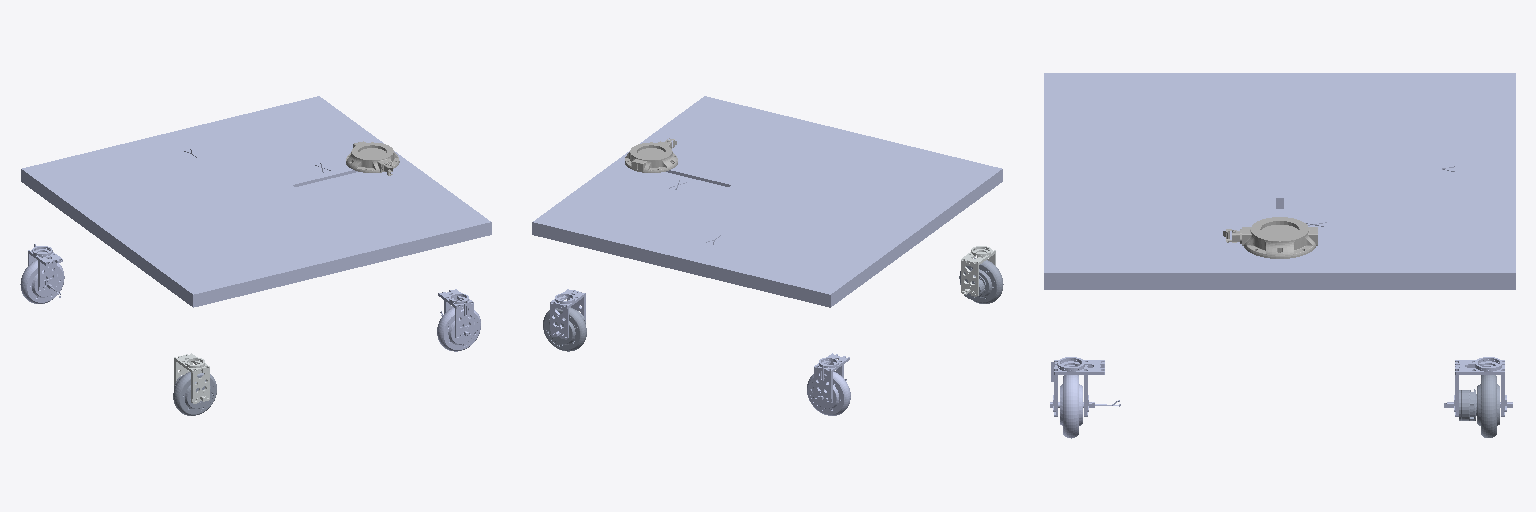
--- Facts derived from the render (not from the file) ---
Views: 3 orthographic renders of the robot side by side, from view 1: azimuth 30°, elevation 25°; view 2: azimuth 150°, elevation 25°; view 3: azimuth 270°, elevation 25°.
Model model_modified with 11 links and 10 joints (4 revolute, 4 continuous, 2 fixed), rooted at base_footprint, posed all joints at 0.
Links seen in each view (by area): view 1: base_link, arm_link0, turn_link4, wheel_link4, turn_link1, wheel_link1, wheel_link3, turn_link3; view 2: base_link, arm_link0, turn_link2, wheel_link2, turn_link3, wheel_link3, wheel_link4, turn_link4; view 3: base_link, arm_link0, wheel_link2, turn_link1, turn_link2, wheel_link1.
Link boxes in pixels (x1,y1,x2,y2): base_link: (21,96,491,307); arm_link0: (346,141,399,175); turn_link4: (174,353,209,403); wheel_link4: (173,372,216,415); turn_link1: (438,289,473,339); wheel_link1: (437,307,480,351); wheel_link3: (20,260,64,303); turn_link3: (28,244,62,297); base_link: (532,96,1002,307); arm_link0: (625,138,677,172); turn_link2: (550,289,585,339); wheel_link2: (543,307,586,351); turn_link3: (814,353,849,403); wheel_link3: (807,372,850,415); wheel_link4: (959,258,1003,303); turn_link4: (961,246,995,296); base_link: (1044,73,1515,289); arm_link0: (1223,217,1317,258); wheel_link2: (1459,375,1499,437); turn_link1: (1050,357,1120,416); turn_link2: (1444,357,1512,416); wheel_link1: (1060,375,1082,438).
Bounding box of the posed robot: 1.24 × 1.2 × 0.5603 m (x, y, z).
10 mesh visuals loaded from 10 distinct referenced files (10 binary STL).

URDF robot description (model_modified):
<?xml version="1.0" encoding="utf-8"?>
<!-- This URDF was automatically created by SolidWorks to URDF Exporter! Originally created by Stephen Brawner ([email redacted]) 
     Commit Version: 1.5.1-0-g916b5db  Build Version: 1.5.7152.31018
     For more information, please see http://wiki.ros.org/sw_urdf_exporter -->
<robot
  name="model_modified">

  <link name="base_footprint">
  </link>

  <joint name="base_footprint2base_link" type="fixed">
    <origin xyz="0 0 0.5" rpy="0 0 0"/>
    <parent link="base_footprint"/>
    <child link="base_link"/>
    <axis xyz="0 0 0"/>
  </joint>

  <link
    name="base_link">
    <inertial>
      <origin
        xyz="-0.00893248714072777 -0.00410748668992322 -0.126949191048676"
        rpy="0 0 0" />
      <mass
        value="60.6490348569728" />
      <inertia
        ixx="1.93062635388689"
        ixy="-9.28355662262115E-06"
        ixz="-0.000147443513712794"
        iyy="2.82233845782533"
        iyz="3.80713670511141E-06"
        izz="4.57188386851391" />
    </inertial>
    <visual>
      <origin
        xyz="0 0 0"
        rpy="0 0 0" />
      <geometry>
        <mesh
          filename="package://model_modified/meshes/base_link.STL" />
      </geometry>
      <material
        name="">
        <color
          rgba="0.792156862745098 0.819607843137255 0.933333333333333 1" />
      </material>
    </visual>
    <collision>
      <origin
        xyz="0 0 0"
        rpy="0 0 0" />
      <geometry>
        <mesh
          filename="package://model_modified/meshes/base_link.STL" />
      </geometry>
    </collision>
  </link>
  <link
    name="arm_link0">
    <inertial>
      <origin
        xyz="-1.85892599924298E-07 -0.00115098665543706 0.018830080730643"
        rpy="0 0 0" />
      <mass
        value="0.655152540803042" />
      <inertia
        ixx="0.00156276083969846"
        ixy="-3.36599648618648E-08"
        ixz="-1.62894681490701E-10"
        iyy="0.00121051829401654"
        iyz="-5.21192954217805E-06"
        izz="0.00262778163467102" />
    </inertial>
    <visual>
      <origin
        xyz="0 0 0"
        rpy="0 0 0" />
      <geometry>
        <mesh
          filename="package://model_modified/meshes/arm_link0.STL" />
      </geometry>
      <material
        name="">
        <color
          rgba="0.752941176470588 0.752941176470588 0.752941176470588 1" />
      </material>
    </visual>
    <collision>
      <origin
        xyz="0 0 0"
        rpy="0 0 0" />
      <geometry>
        <mesh
          filename="package://model_modified/meshes/arm_link0.STL" />
      </geometry>
    </collision>
  </link>
  <joint
    name="arm_joint0"
    type="fixed">
    <origin
      xyz="0.46925 0 0.02"
      rpy="0 0 0" />
    <parent
      link="base_link" />
    <child
      link="arm_link0" />
    <axis
      xyz="0 0 0" />
  </joint>
  <!-- <link
    name="arm_link1">
    <inertial>
      <origin
        xyz="6.56593142922546E-06 -0.0021798618257366 -0.00131736708112085"
        rpy="0 0 0" />
      <mass
        value="3.60449209211676" />
      <inertia
        ixx="0.0126654074039028"
        ixy="-2.62089433740127E-07"
        ixz="-1.31830270672264E-07"
        iyy="0.0127154549514285"
        iyz="0.000389410015223878"
        izz="0.0111093940722602" />
    </inertial>
    <visual>
      <origin
        xyz="0 0 0"
        rpy="0 0 0" />
      <geometry>
        <mesh
          filename="package://model_modified/meshes/arm_link1.STL" />
      </geometry>
      <material
        name="">
        <color
          rgba="0.752941176470588 0.752941176470588 0.752941176470588 1" />
      </material>
    </visual>
    <collision>
      <origin
        xyz="0 0 0"
        rpy="0 0 0" />
      <geometry>
        <mesh
          filename="package://model_modified/meshes/arm_link1.STL" />
      </geometry>
    </collision>
  </link>
  <joint
    name="arm_joint1"
    type="revolute">
    <origin
      xyz="0 0 0.14261"
      rpy="0 0 0" />
    <parent
      link="arm_link0" />
    <child
      link="arm_link1" />
    <axis
      xyz="0 0 -1" />
    <limit
      lower="-4.71"
      upper="4.71"
      effort="160"
      velocity="2.09" />
  </joint>
  <link
    name="arm_link2">
    <inertial>
      <origin
        xyz="0.297295848633661 -7.21650765328485E-06 0.181245685891374"
        rpy="0 0 0" />
      <mass
        value="12.2380790500907" />
      <inertia
        ixx="0.0343806286053289"
        ixy="5.21573028637576E-07"
        ixz="-4.57728396292352E-06"
        iyy="0.119109147801218"
        iyz="-5.70041950554426E-10"
        izz="0.116279402991015" />
    </inertial>
    <visual>
      <origin
        xyz="0 0 0"
        rpy="0 0 0" />
      <geometry>
        <mesh
          filename="package://model_modified/meshes/arm_link2.STL" />
      </geometry>
      <material
        name="">
        <color
          rgba="0.752941176470588 0.752941176470588 0.752941176470588 1" />
      </material>
    </visual>
    <collision>
      <origin
        xyz="0 0 0"
        rpy="0 0 0" />
      <geometry>
        <mesh
          filename="package://model_modified/meshes/arm_link2.STL" />
      </geometry>
    </collision>
  </link>
  <joint
    name="arm_joint2"
    type="revolute">
    <origin
      xyz="0 0 0"
      rpy="1.5708 -1.5708 0" />
    <parent
      link="arm_link1" />
    <child
      link="arm_link2" />
    <axis
      xyz="0 0 -1" />
    <limit
      lower="-1.48"
      upper="4.63"
      effort="159.24"
      velocity="2.09" />
  </joint>
  <link
    name="arm_link3">
    <inertial>
      <origin
        xyz="0.279323373643599 -2.05269174786693E-05 -0.0168804752155456"
        rpy="0 0 0" />
      <mass
        value="4.95956568648549" />
      <inertia
        ixx="0.00703926044842849"
        ixy="-1.10355720200029E-06"
        ixz="-0.0058150273292785"
        iyy="0.121787936376109"
        iyz="-1.14663299583859E-07"
        izz="0.121496286554896" />
    </inertial>
    <visual>
      <origin
        xyz="0 0 0"
        rpy="0 0 0" />
      <geometry>
        <mesh
          filename="package://model_modified/meshes/arm_link3.STL" />
      </geometry>
      <material
        name="">
        <color
          rgba="0.752941176470588 0.752941176470588 0.752941176470588 1" />
      </material>
    </visual>
    <collision>
      <origin
        xyz="0 0 0"
        rpy="0 0 0" />
      <geometry>
        <mesh
          filename="package://model_modified/meshes/arm_link3.STL" />
      </geometry>
    </collision>
  </link>
  <joint
    name="arm_joint3"
    type="revolute">
    <origin
      xyz="0.59497 -2.3063E-05 0"
      rpy="-3.1416 0 0" />
    <parent
      link="arm_link2" />
    <child
      link="arm_link3" />
    <axis
      xyz="0 0 1" />
    <limit
      lower="-3.05"
      upper="3.05"
      effort="82.38"
      velocity="2.09" />
  </joint>
  <link
    name="arm_link4">
    <inertial>
      <origin
        xyz="-2.96649884655165E-05 -0.00262123797534006 0.124278582104431"
        rpy="0 0 0" />
      <mass
        value="0.838886390347174" />
      <inertia
        ixx="0.00145630007823869"
        ixy="-1.63799148198374E-09"
        ixz="6.54274434216106E-09"
        iyy="0.00098615661868495"
        iyz="3.14742670990734E-06"
        izz="0.0014481473926624" />
    </inertial>
    <visual>
      <origin
        xyz="0 0 0"
        rpy="0 0 0" />
      <geometry>
        <mesh
          filename="package://model_modified/meshes/arm_link4.STL" />
      </geometry>
      <material
        name="">
        <color
          rgba="0.752941176470588 0.752941176470588 0.752941176470588 1" />
      </material>
    </visual>
    <collision>
      <origin
        xyz="0 0 0"
        rpy="0 0 0" />
      <geometry>
        <mesh
          filename="package://model_modified/meshes/arm_link4.STL" />
      </geometry>
    </collision>
  </link>
  <joint
    name="arm_joint4"
    type="revolute">
    <origin
      xyz="0.57464 -4.5713E-05 0"
      rpy="-3.1416 0 -1.5708" />
    <parent
      link="arm_link3" />
    <child
      link="arm_link4" />
    <axis
      xyz="0 0 1" />
    <limit
      lower="-1.48"
      upper="4.63"
      effort="13.44"
      velocity="3.14" />
  </joint>
  <link
    name="arm_link5">
    <inertial>
      <origin
        xyz="1.93539596238246E-07 0.12717221554454 -0.00113544003881827"
        rpy="0 0 0" />
      <mass
        value="0.838308466241377" />
      <inertia
        ixx="0.00145558285451265"
        ixy="4.55756640118538E-09"
        ixz="6.62993366020226E-09"
        iyy="0.00100189715251814"
        iyz="-1.22054880754547E-06"
        izz="0.0014494885141089" />
    </inertial>
    <visual>
      <origin
        xyz="0 0 0"
        rpy="0 0 0" />
      <geometry>
        <mesh
          filename="package://model_modified/meshes/arm_link5.STL" />
      </geometry>
      <material
        name="">
        <color
          rgba="0.752941176470588 0.752941176470588 0.752941176470588 1" />
      </material>
    </visual>
    <collision>
      <origin
        xyz="0 0 0"
        rpy="0 0 0" />
      <geometry>
        <mesh
          filename="package://model_modified/meshes/arm_link5.STL" />
      </geometry>
    </collision>
  </link>
  <joint
    name="arm_joint5"
    type="revolute">
    <origin
      xyz="-2.9874E-05 -0.11445 0"
      rpy="1.5708 0 0" />
    <parent
      link="arm_link4" />
    <child
      link="arm_link5" />
    <axis
      xyz="0 0 1" />
    <limit
      lower="-4.71"
      upper="4.71"
      effort="12.06"
      velocity="3.14" />
  </joint>
  <link
    name="arm_link6">
    <inertial>
      <origin
        xyz="-4.9133202951579E-05 0.00034489173314256 -0.0420522876754529"
        rpy="0 0 0" />
      <mass
        value="0.185615002431531" />
      <inertia
        ixx="0.000124025995543342"
        ixy="-5.32236134534583E-08"
        ixz="2.5668503304522E-08"
        iyy="0.000124255184258649"
        iyz="-2.96050182378141E-07"
        izz="0.000211261380376879" />
    </inertial>
    <visual>
      <origin
        xyz="0 0 0"
        rpy="0 0 0" />
      <geometry>
        <mesh
          filename="package://model_modified/meshes/arm_link6.STL" />
      </geometry>
      <material
        name="">
        <color
          rgba="0.752941176470588 0.752941176470588 0.752941176470588 1" />
      </material>
    </visual>
    <collision>
      <origin
        xyz="0 0 0"
        rpy="0 0 0" />
      <geometry>
        <mesh
          filename="package://model_modified/meshes/arm_link6.STL" />
      </geometry>
    </collision>
  </link>
  <joint
    name="arm_joint6"
    type="revolute">
    <origin
      xyz="0 0 0"
      rpy="1.5708 0 0" />
    <parent
      link="arm_link5" />
    <child
      link="arm_link6" />
    <axis
      xyz="0 0 1" />
    <limit
      lower="-4.71"
      upper="4.71"
      effort="5.46"
      velocity="3.14" />
  </joint> -->
  <link name="turn_link1">
    <inertial>
    <origin xyz="4.7809E-06 -0.0053951 -0.058703" rpy="0 0 0"/>
    <mass value="0.23413"/>
    <inertia ixx="0.00027719" ixy="-6.7198E-12" ixz="2.5745E-08" iyy="0.00026387" iyz="1.7031E-06" izz="0.00021284"/>
    </inertial>
    <visual>
    <origin xyz="0 0 0" rpy="0 0 0"/>
    <geometry>
    <mesh filename="package://model_modified/meshes/turn_link1.STL"/>
    </geometry>
    <material name="">
    <color rgba="0.79216 0.81961 0.93333 1"/>
    </material>
    </visual>
    <collision>
    <origin xyz="0 0 0" rpy="0 0 0"/>
    <geometry>
    <mesh filename="package://model_modified/meshes/turn_link1.STL"/>
    </geometry>
    </collision>
    </link>
    <joint name="joint_turn1" type="revolute">
    <origin xyz="0.51025 -0.53195 -0.4154" rpy="3.1416 0 0"/>
    <parent link="base_link"/>
    <child link="turn_link1"/>
    <axis xyz="0 0 1"/>
    <limit lower="-6.28" upper="6.28" effort="24" velocity="392.7"/>
    </joint>
    <link name="wheel_link1">
    <inertial>
    <origin xyz="-9.46616373287412E-07 8.36851295982211E-07 0.000203528913065631" rpy="0 0 0"/>
    <mass value="0.983628441689034"/>
    <inertia ixx="0.00172003283591093" ixy="-1.0212086898238E-08" ixz="2.71189247391096E-08" iyy="0.0017200303768434" iyz="-2.39470842150592E-08" izz="0.00304607448874652"/>
    </inertial>
    <visual>
    <origin xyz="0 0 0" rpy="0 0 0"/>
    <geometry>
    <mesh filename="package://model_modified/meshes/wheel_link1.STL"/>
    </geometry>
    <material name="">
    <color rgba="0.792156862745098 0.819607843137255 0.933333333333333 1"/>
    </material>
    </visual>
    <collision>
    <origin xyz="0 0 0" rpy="0 0 0"/>
    <geometry>
    <mesh filename="package://model_modified/meshes/wheel_link1.STL"/>
    </geometry>
    </collision>
    </link>
    <joint name="joint_wheel1" type="continuous">
    <origin xyz="0 0 0" rpy="-1.5708 1.5708 0"/>
    <parent link="turn_link1"/>
    <child link="wheel_link1"/>
    <axis xyz="0 0 1"/>
    </joint>
    <link name="turn_link2">
    <inertial>
    <origin xyz="1.253E-09 0.020205 -0.048699" rpy="0 0 0"/>
    <mass value="0.27586"/>
    <inertia ixx="0.00030508" ixy="1.1956E-11" ixz="1.2119E-12" iyy="0.00026414" iyz="-1.7052E-06" izz="0.00024149"/>
    </inertial>
    <visual>
    <origin xyz="0 0 0" rpy="0 0 0"/>
    <geometry>
    <mesh filename="package://model_modified/meshes/turn_link2.STL"/>
    </geometry>
    <material name="">
    <color rgba="0.79216 0.81961 0.93333 1"/>
    </material>
    </visual>
    <collision>
    <origin xyz="0 0 0" rpy="0 0 0"/>
    <geometry>
    <mesh filename="package://model_modified/meshes/turn_link2.STL"/>
    </geometry>
    </collision>
    </link>
    <joint name="joint_turn2" type="revolute">
    <origin xyz="0.510251651718085 0.53195481528325 -0.415396961061792" rpy="3.14159265358979 0 0"/>
    <parent link="base_link"/>
    <child link="turn_link2"/>
    <axis xyz="0 0 1"/>
    <limit lower="-6.28" upper="6.28" effort="24" velocity="392.7"/>
    </joint>
    <link name="wheel_link2">
    <inertial>
    <origin xyz="-4.6090758842654E-05 6.74907727865603E-05 -0.0100561815967314" rpy="0 0 0"/>
    <mass value="2.81767979726362"/>
    <inertia ixx="0.00568063685695422" ixy="-9.6188179177431E-07" ixz="-5.52704245861497E-06" iyy="0.00567948762334327" iyz="9.8770178633903E-06" izz="0.007723054301697"/>
    </inertial>
    <visual>
    <origin xyz="0 0 0" rpy="0 0 0"/>
    <geometry>
    <mesh filename="package://model_modified/meshes/wheel_link2.STL"/>
    </geometry>
    <material name="">
    <color rgba="0.666666666666667 0.698039215686274 0.768627450980392 1"/>
    </material>
    </visual>
    <collision>
    <origin xyz="0 0 0" rpy="0 0 0"/>
    <geometry>
    <mesh filename="package://model_modified/meshes/wheel_link2.STL"/>
    </geometry>
    </collision>
    </link>
    <joint name="joint_wheel2" type="continuous">
    <origin xyz="0 0 0" rpy="1.5708 1.5708 0"/>
    <parent link="turn_link2"/>
    <child link="wheel_link2"/>
    <axis xyz="0 0 1"/>
    </joint>
    <link name="turn_link3">
    <inertial>
    <origin xyz="-4.0555E-06 0.0053951 -0.058699" rpy="0 0 0"/>
    <mass value="0.23413"/>
    <inertia ixx="0.00027719" ixy="2.5185E-11" ixz="-2.5745E-08" iyy="0.00026387" iyz="-1.6068E-06" izz="0.00021284"/>
    </inertial>
    <visual>
    <origin xyz="0 0 0" rpy="0 0 0"/>
    <geometry>
    <mesh filename="package://model_modified/meshes/turn_link3.STL"/>
    </geometry>
    <material name="">
    <color rgba="0.79216 0.81961 0.93333 1"/>
    </material>
    </visual>
    <collision>
    <origin xyz="0 0 0" rpy="0 0 0"/>
    <geometry>
    <mesh filename="package://model_modified/meshes/turn_link3.STL"/>
    </geometry>
    </collision>
    </link>
    <joint name="joint_turn3" type="revolute">
    <origin xyz="-0.551748348281654 0.531954815283268 -0.415396961061794" rpy="-3.14159265358979 0 0"/>
    <parent link="base_link"/>
    <child link="turn_link3"/>
    <axis xyz="0 0 1"/>
    <limit lower="-6.28" upper="6.28" effort="24" velocity="392.7"/>
    </joint>
    <link name="wheel_link3">
    <inertial>
    <origin xyz="-1.6046E-07 1.2533E-06 0.00020353" rpy="0 0 0"/>
    <mass value="0.98363"/>
    <inertia ixx="0.00172" ixy="-2.5604E-09" ixz="4.6149E-09" iyy="0.00172" iyz="-3.5883E-08" izz="0.0030461"/>
    </inertial>
    <visual>
    <origin xyz="0 0 0" rpy="0 0 0"/>
    <geometry>
    <mesh filename="package://model_modified/meshes/wheel_link3.STL"/>
    </geometry>
    <material name="">
    <color rgba="0.79216 0.81961 0.93333 1"/>
    </material>
    </visual>
    <collision>
    <origin xyz="0 0 0" rpy="0 0 0"/>
    <geometry>
    <mesh filename="package://model_modified/meshes/wheel_link3.STL"/>
    </geometry>
    </collision>
    </link>


    <joint name="joint_wheel3" type="continuous">
    <origin xyz="0 0 0" rpy="1.5708 1.5708 0"/>
    <parent link="turn_link3"/>
    <child link="wheel_link3"/>
    <axis xyz="0 0 1"/>
    
   
    </joint>


    <link name="turn_link4">
    <inertial>
    <origin xyz="-2.1506E-09 -0.020091 -0.056878" rpy="0 0 0"/>
    <mass value="0.6378"/>
    <inertia ixx="0.00074965" ixy="2.7651E-11" ixz="-6.1452E-12" iyy="0.0007103" iyz="4.5186E-06" izz="0.00057825"/>
    </inertial>
    <visual>
    <origin xyz="0 0 0" rpy="0 0 0"/>
    <geometry>
    <mesh filename="package://model_modified/meshes/turn_link4.STL"/>
    </geometry>
    <material name="">
    <color rgba="0.89804 0.91765 0.92941 1"/>
    </material>
    </visual>
    <collision>
    <origin xyz="0 0 0" rpy="0 0 0"/>
    <geometry>
    <mesh filename="package://model_modified/meshes/turn_link4.STL"/>
    </geometry>
    </collision>
    </link>
    <joint name="joint_turn4" type="revolute">
    <origin xyz="-0.55175 -0.53195 -0.4154" rpy="-3.1416 0 0"/>
    <parent link="base_link"/>
    <child link="turn_link4"/>
    <axis xyz="0 0 1"/>
    <limit lower="-6.28" upper="6.28" effort="24" velocity="392.7"/>
    </joint>
    <link name="wheel_link4">
    <inertial>
    <origin xyz="2.0752E-06 -3.0828E-07 -0.01041" rpy="0 0 0"/>
    <mass value="2.6332"/>
    <inertia ixx="0.0053309" ixy="2.2241E-08" ixz="-8.2689E-08" iyy="0.0053309" iyz="1.2669E-07" izz="0.0071271"/>
    </inertial>
    <visual>
    <origin xyz="0 0 0" rpy="0 0 0"/>
    <geometry>
    <mesh filename="package://model_modified/meshes/wheel_link4.STL"/>
    </geometry>
    <material name="">
    <color rgba="0.66667 0.69804 0.76863 1"/>
    </material>
    </visual>
    <collision>
    <origin xyz="0 0 0" rpy="0 0 0"/>
    <geometry>
    <mesh filename="package://model_modified/meshes/wheel_link4.STL"/>
    </geometry>
    </collision>
    </link>



    <joint name="joint_wheel4" type="continuous">
    <origin xyz="0 0 0" rpy="-1.5708 1.5708 0"/>
    <parent link="turn_link4"/>
    <child link="wheel_link4"/>
    <axis xyz="0 0 1"/>
    </joint>

  <transmission name="tran_turn1">
    <type>transmission_interface/SimpleTransmission</type>
      <joint name="joint_turn1">
      <hardwareInterface>hardware_interface/EffortJointInterface</hardwareInterface>
      </joint>
      <actuator name="motorturn1">
      <hardwareInterface>hardware_interface/EffortJointInterface</hardwareInterface>
      <mechanicalReduction>1</mechanicalReduction>
      </actuator> 
  </transmission>
  
  
  <transmission name="tran_turn2">
  <type>transmission_interface/SimpleTransmission</type>
  <joint name="joint_turn2">
  <hardwareInterface>hardware_interface/EffortJointInterface</hardwareInterface>
  </joint>
  <actuator name="motorturn2">
  <hardwareInterface>hardware_interface/EffortJointInterface</hardwareInterface>
  <mechanicalReduction>1</mechanicalReduction>
  </actuator> 
  </transmission>
  
  
  <transmission name="tran_turn3">
  <type>transmission_interface/SimpleTransmission</type>
  <joint name="joint_turn3">
  <hardwareInterface>hardware_interface/EffortJointInterface</hardwareInterface>
  </joint>
  <actuator name="motorturn3">
  <hardwareInterface>hardware_interface/EffortJointInterface</hardwareInterface>
  <mechanicalReduction>1</mechanicalReduction>
  </actuator> 
  </transmission>
  
  
  <transmission name="tran_turn4">
  <type>transmission_interface/SimpleTransmission</type>
  <joint name="joint_turn4">
  <hardwareInterface>hardware_interface/EffortJointInterface</hardwareInterface>
  </joint>
  <actuator name="motorturn4">
  <hardwareInterface>hardware_interface/EffortJointInterface</hardwareInterface>
  <mechanicalReduction>1</mechanicalReduction>
  </actuator> 
  </transmission>
  
  
  
  <transmission name="tran_wheel1">
  <type>transmission_interface/SimpleTransmission</type>
  <joint name="joint_wheel1">
  <hardwareInterface>hardware_interface/EffortJointInterface</hardwareInterface>
  </joint>
  <actuator name="motorwheel1">
  <hardwareInterface>hardware_interface/EffortJointInterface</hardwareInterface>
  <mechanicalReduction>1</mechanicalReduction>
  </actuator> 
  </transmission>
  
  
  
  <transmission name="tran_wheel2">
  <type>transmission_interface/SimpleTransmission</type>
  <joint name="joint_wheel2">
  <hardwareInterface>hardware_interface/EffortJointInterface</hardwareInterface>
  </joint>
  <actuator name="motorwheel2">
  <hardwareInterface>hardware_interface/EffortJointInterface</hardwareInterface>
  <mechanicalReduction>1</mechanicalReduction>
  </actuator> 
  </transmission>
  
  
  
  <transmission name="tran_wheel3">
  <type>transmission_interface/SimpleTransmission</type>
  <joint name="joint_wheel3">
  <hardwareInterface>hardware_interface/EffortJointInterface</hardwareInterface>
  </joint>
  <actuator name="motorwheel3">
  <hardwareInterface>hardware_interface/EffortJointInterface</hardwareInterface>
  <mechanicalReduction>1</mechanicalReduction>
  </actuator> 
  </transmission>
  
  
  
  <transmission name="tran_wheel4">
  <type>transmission_interface/SimpleTransmission</type>
  <joint name="joint_wheel4">
  <hardwareInterface>hardware_interface/EffortJointInterface</hardwareInterface>
  </joint>
  <actuator name="motorwheel4">
  <hardwareInterface>hardware_interface/EffortJointInterface</hardwareInterface>
  <mechanicalReduction>1</mechanicalReduction>
  </actuator> 
  </transmission>

<!-- 
  <transmission name="tran_joint1">
    <type>transmission_interface/SimpleTransmission</type>
    <joint name="arm_joint1">
    <hardwareInterface>hardware_interface/PositionJointInterface</hardwareInterface>
    </joint>
    <actuator name="motorjoint1">
    <hardwareInterface>hardware_interface/PositionJointInterface</hardwareInterface>
    <mechanicalReduction>1</mechanicalReduction>
    </actuator> 
    </transmission>
    <transmission name="tran_joint2">
      <type>transmission_interface/SimpleTransmission</type>
      <joint name="arm_joint2">
      <hardwareInterface>hardware_interface/PositionJointInterface</hardwareInterface>
      </joint>
      <actuator name="motorjoint2">
      <hardwareInterface>hardware_interface/PositionJointInterface</hardwareInterface>
      <mechanicalReduction>1</mechanicalReduction>
      </actuator> 
      </transmission>
      <transmission name="tran_joint3">
        <type>transmission_interface/SimpleTransmission</type>
        <joint name="arm_joint3">
        <hardwareInterface>hardware_interface/PositionJointInterface</hardwareInterface>
        </joint>
        <actuator name="motorjoint3">
        <hardwareInterface>hardware_interface/PositionJointInterface</hardwareInterface>
        <mechanicalReduction>1</mechanicalReduction>
        </actuator> 
      </transmission>
      <transmission name="tran_joint4">
        <type>transmission_interface/SimpleTransmission</type>
        <joint name="arm_joint4">
        <hardwareInterface>hardware_interface/PositionJointInterface</hardwareInterface>
        </joint>
        <actuator name="motorjoint4">
        <hardwareInterface>hardware_interface/PositionJointInterface</hardwareInterface>
        <mechanicalReduction>1</mechanicalReduction>
        </actuator> 
      </transmission>
      <transmission name="tran_joint5">
        <type>transmission_interface/SimpleTransmission</type>
        <joint name="arm_joint5">
        <hardwareInterface>hardware_interface/PositionJointInterface</hardwareInterface>
        </joint>
        <actuator name="motorjoint5">
        <hardwareInterface>hardware_interface/PositionJointInterface</hardwareInterface>
        <mechanicalReduction>1</mechanicalReduction>
        </actuator> 
      </transmission>
      <transmission name="tran_joint6">
        <type>transmission_interface/SimpleTransmission</type>
        <joint name="arm_joint6">
        <hardwareInterface>hardware_interface/PositionJointInterface</hardwareInterface>
        </joint>
        <actuator name="motorjoint6">
        <hardwareInterface>hardware_interface/PositionJointInterface</hardwareInterface>
        <mechanicalReduction>1</mechanicalReduction>
        </actuator> 
      </transmission> -->


      <gazebo reference="base_link">
        <mu1 value="0.0"/>
        <mu2 value="0.0"/>
        <kp  value="10000000.0" />
        <kd  value="1.0" />
        <material>Gazebo/Red</material>
    </gazebo>

    <gazebo reference="link_turn1">
        <mu1 value="2.0"/>
        <mu2 value="2.0"/>
        <kp  value="10000000.0" />
        <kd  value="1.0" />

        <material>Gazebo/Red</material>
    </gazebo>
    <gazebo reference="link_turn2">
        <mu1 value="2.0"/>
        <mu2 value="2.0"/>
        <kp  value="10000000.0" />
        <kd  value="1.0" />

        <material>Gazebo/Grey</material>
    </gazebo>
    <gazebo reference="link_wheel1">
        <mu1 value="2.0"/>
        <mu2 value="2.0"/>
        <kp  value="10000000.0" />
        <kd  value="1.0" />

        <material>Gazebo/Grey</material>
    </gazebo>
    <gazebo reference="link_wheel2">
        <mu1 value="2.0"/>
        <mu2 value="2.0"/>
        <kp  value="10000000.0" />
        <kd  value="1.0" />

        <material>Gazebo/Grey</material>
    </gazebo>
    <gazebo reference="link_wheel3">
        <mu1 value="2.0"/>
        <mu2 value="2.0"/>
        <kp  value="10000000.0" />
        <kd  value="1.0" />

        <material>Gazebo/Grey</material>
    </gazebo>
    <gazebo reference="link_wheel4">
        <mu1 value="2.0"/>
        <mu2 value="2.0"/>
        <kp  value="10000000.0" />
        <kd  value="1.0" />
        <material>Gazebo/Grey</material>

    </gazebo>



  
  <gazebo>
  
    <plugin name="gazebo_ros_control" filename="libgazebo_ros_control.so">
      <robotNamespace>/agv_sim</robotNamespace>
      <robotSimType>gazebo_ros_control/DefaultRobotHWSim</robotSimType>
    </plugin>
  
  
  
  </gazebo>




</robot>
